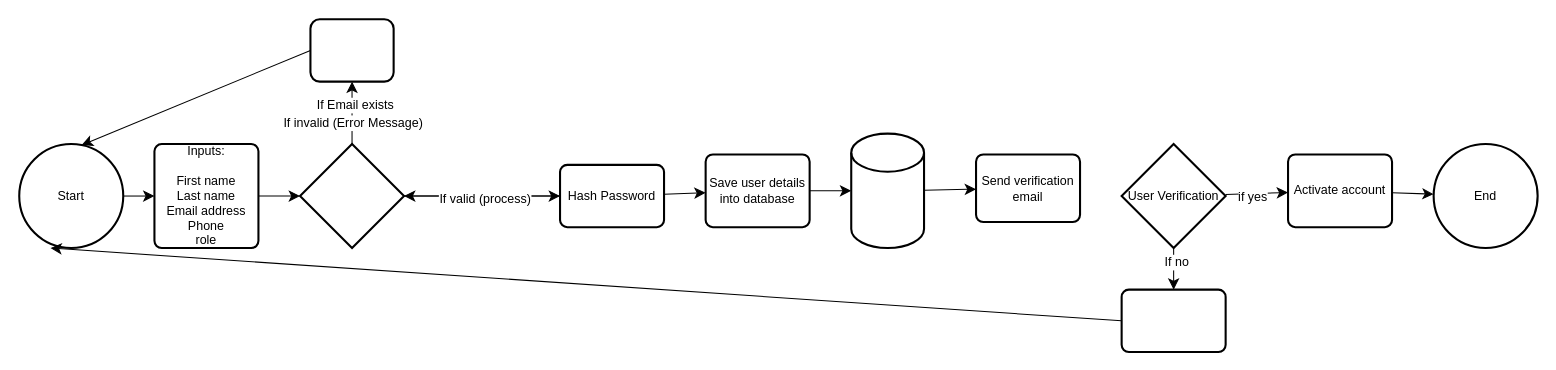
Image size: 1556x370. Some labels were removed from this diagram. The shapes that lost their labels are listed below. From the top down, each one's box as (x1, y1, x2, y2) in pixels, then its label:
(309, 18, 394, 82): Return to User Form
(298, 142, 405, 249): Validate input data
(850, 132, 925, 249): User Table
(1120, 288, 1226, 353): Status (Pending)
